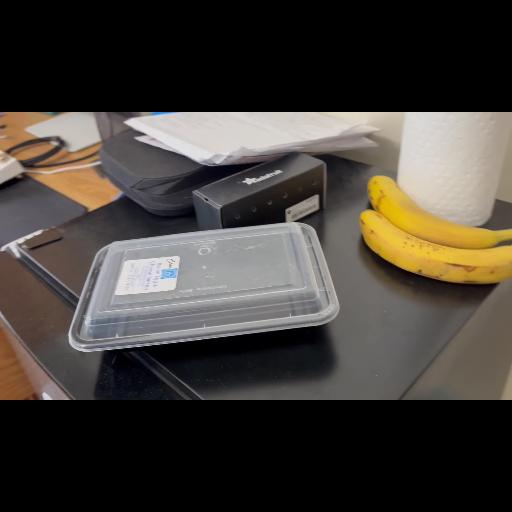rigid_plastic_container: (66, 202, 328, 358)
